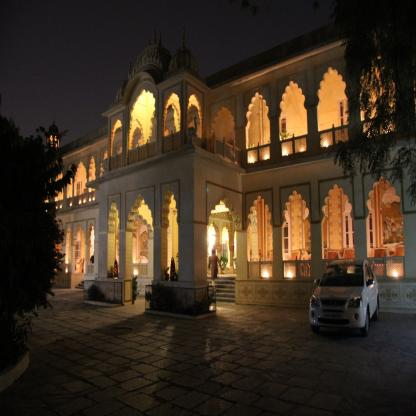Car: (310, 259, 379, 339)
